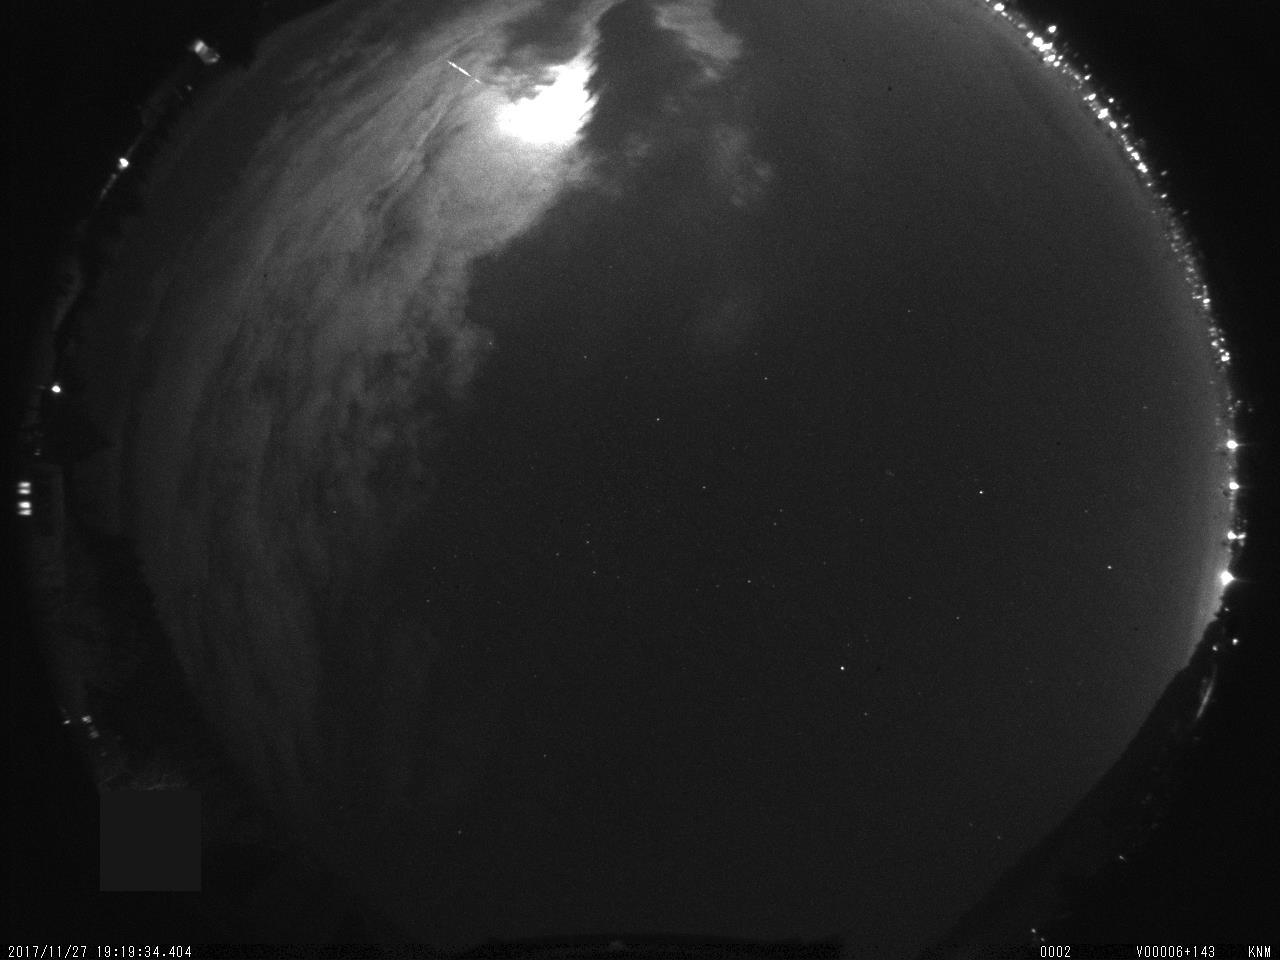meteor: (445, 53, 492, 92)
